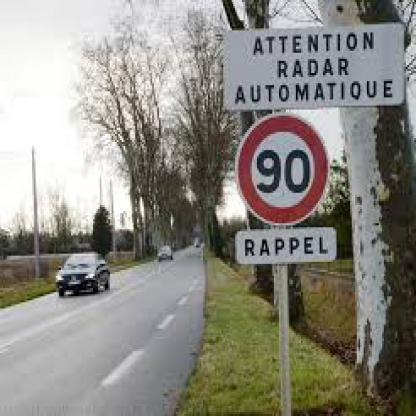Speed Limit 90: (240, 114, 327, 224)
